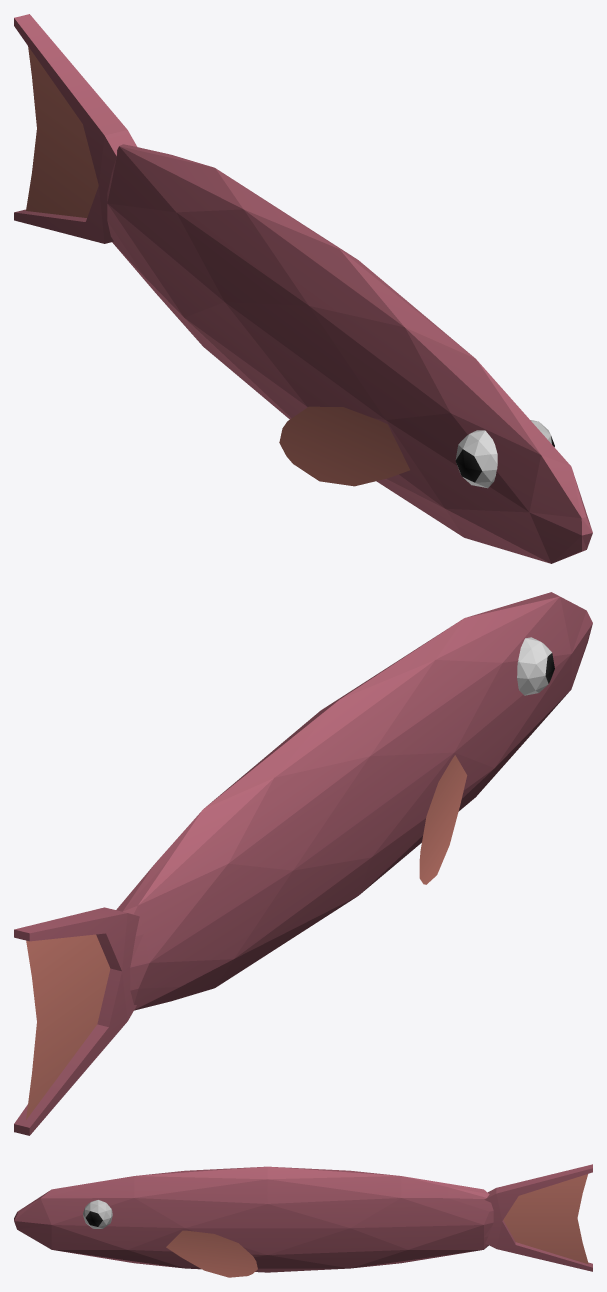
The model's file is common_fish.glb.
The picture shows the model from 3 angles, top to bottom: view 1: azimuth 30°, elevation 25°; view 2: azimuth 150°, elevation 25°; view 3: azimuth 270°, elevation 25°; orthographic projection. The views are drawn at different scales.
Parts seen in each view (by area): view 1: common_fish_merged.001; view 2: common_fish_merged.001; view 3: common_fish_merged.001.
Part boxes in pixels (x1,y1,x2,y2): common_fish_merged.001: [14, 14, 592, 563]; common_fish_merged.001: [14, 592, 592, 1135]; common_fish_merged.001: [14, 1164, 592, 1277].
Bounding box in the file's own units: 1.42 × 2.01 × 9.9.
1 material, 1 textured.
